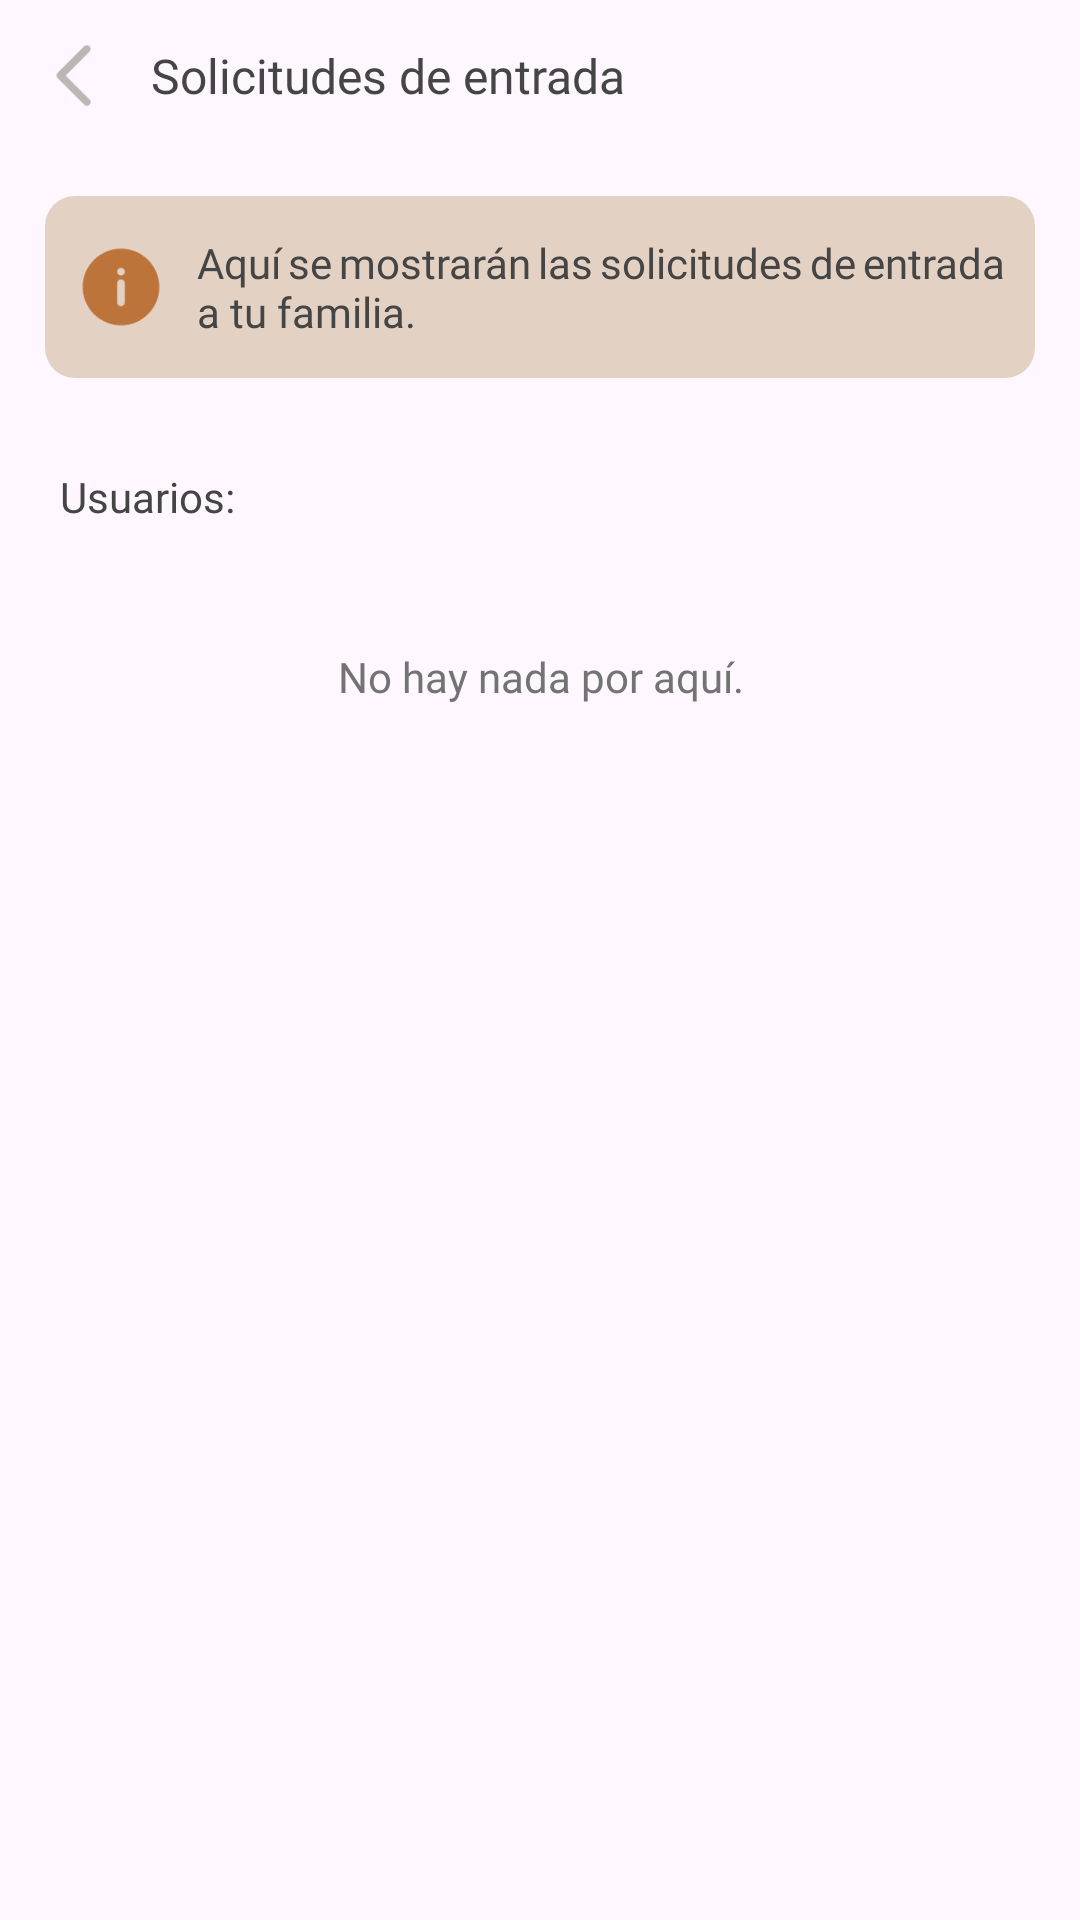

Icons on this 1080 x 1920 Android screen, each with the point to tap as (x,y):
chevronleftgrey: (73,75)
